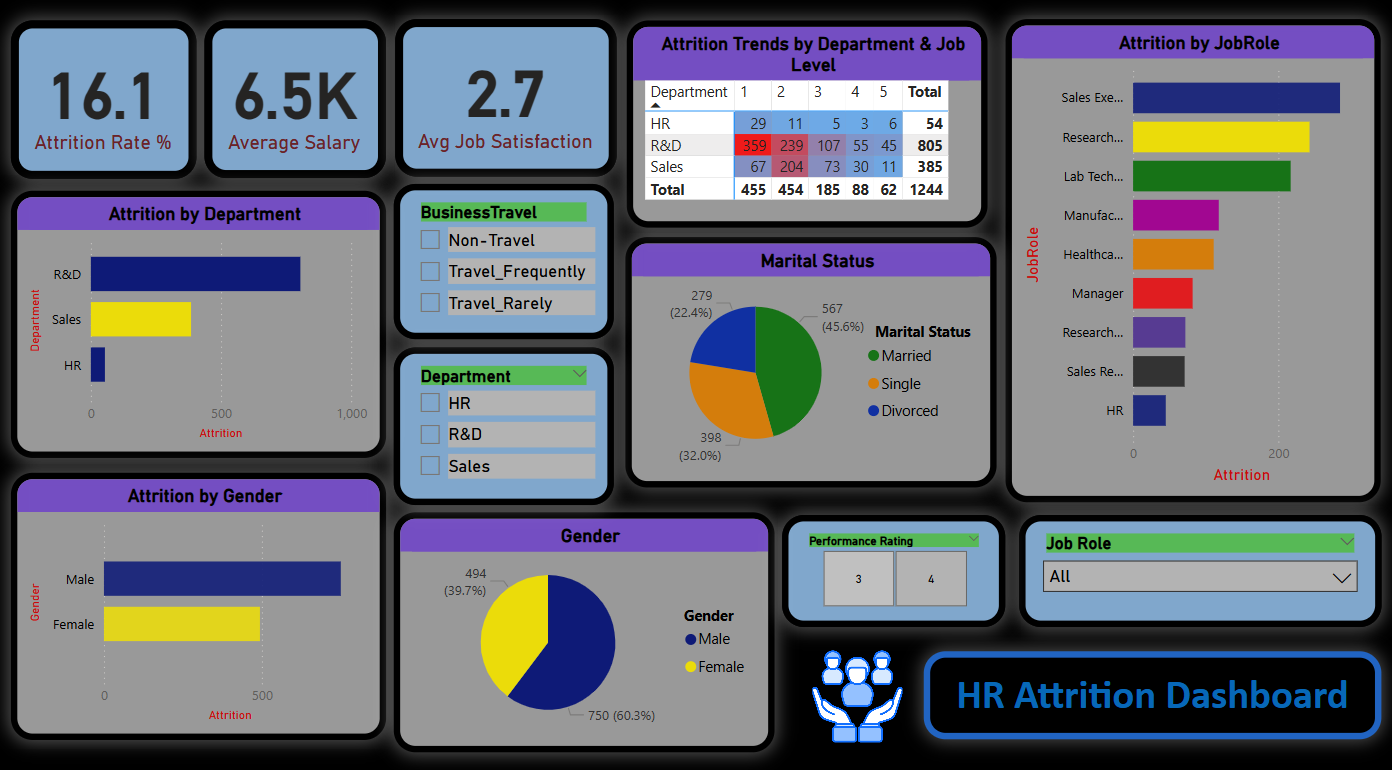

The page's visual inventory and layout, read from the dashboard file:
{"tool":"powerbi","page":{"name":"Page 1","canvas":[1280,720],"ordinal":0},"visuals":[{"type":"card","fields":{"Values":["HR_Attrition.Attrition Rate"]},"box":[10,18.5,170,145],"z":0},{"type":"card","fields":{"Values":["HR_Attrition.Average Salary"]},"box":[188.1,18.5,166.2,144.4],"z":1000},{"type":"card","fields":{"Values":["HR_Attrition.Avg Job Satisfaction"]},"box":[362,18,203.2,144.4],"z":2000},{"type":"clusteredBarChart","title":"Attrition by Department","fields":{"Category":["HR_Attrition.Department"],"Y":["CountNonNull(HR_Attrition.Attrition)"]},"box":[10.1,174.6,344.3,245.2],"z":3000},{"type":"clusteredBarChart","title":"Attrition by Gender","fields":{"Y":["CountNonNull(HR_Attrition.Attrition)"],"Category":["HR_Attrition.Gender"]},"box":[10.1,433.3,344.3,245.2],"z":4000},{"type":"clusteredBarChart","title":"Attrition by JobRole","fields":{"Category":["HR_Attrition.JobRole"],"Y":["CountNonNull(HR_Attrition.Attrition)"]},"box":[923,18,344,443.3],"z":5000},{"type":"pieChart","title":"Gender","fields":{"Y":["HR_Attrition.Gender Count"],"Category":["HR_Attrition.Gender"]},"box":[361,470,349.3,220],"z":6000},{"type":"pieChart","title":"Marital Status ","fields":{"Category":["HR_Attrition.MaritalStatus"],"Y":["HR_Attrition.Maritial Status Count"]},"box":[574,218,340.9,230.1],"z":7000},{"type":"pivotTable","title":"Attrition Trends by Department & Job Level","fields":{"Rows":["HR_Attrition.Department"],"Columns":["HR_Attrition.JobLevel"],"Values":["CountNonNull(HR_Attrition.Attrition)"]},"box":[575,18.5,330.8,189.8],"z":8000},{"type":"slicer","fields":{"Values":["HR_Attrition.Department"]},"box":[361,319,202,144.4],"z":9000},{"type":"slicer","fields":{"Values":["HR_Attrition.JobRole"]},"box":[935.4,471.9,332.5,102.4],"z":10000},{"type":"slicer","fields":{"Values":["HR_Attrition.BusinessTravel"]},"box":[361,169,201.5,142.7],"z":11000},{"type":"slicer","fields":{"Values":["HR_Attrition.PerformanceRating"]},"box":[717.7,472.5,205.1,102.5],"z":12000},{"type":"textbox","box":[848,597.8,419.8,80.6],"z":13000},{"type":"image","box":[739.9,591.6,92.8,95.6],"z":14000}]}

Visuals, with their boxes in screenshot pixels (x1, y1, x2, y2), scaled from the page's 1280x720 canvas onto the 1392x770 screenshot:
card - HR_Attrition.Attrition Rate: 11:20:196:175
card - HR_Attrition.Average Salary: 205:20:385:174
card - HR_Attrition.Avg Job Satisfaction: 394:19:615:174
"Attrition by Department" clusteredBarChart: 11:187:385:449
"Attrition by Gender" clusteredBarChart: 11:463:385:726
"Attrition by JobRole" clusteredBarChart: 1004:19:1378:493
"Gender" pieChart: 393:503:772:738
"Marital Status " pieChart: 624:233:995:479
"Attrition Trends by Department & Job Level" pivotTable: 625:20:985:223
slicer - HR_Attrition.Department: 393:341:612:496
slicer - HR_Attrition.JobRole: 1017:505:1379:614
slicer - HR_Attrition.BusinessTravel: 393:181:612:333
slicer - HR_Attrition.PerformanceRating: 780:505:1004:615
textbox: 922:639:1379:726
image: 805:633:906:735
